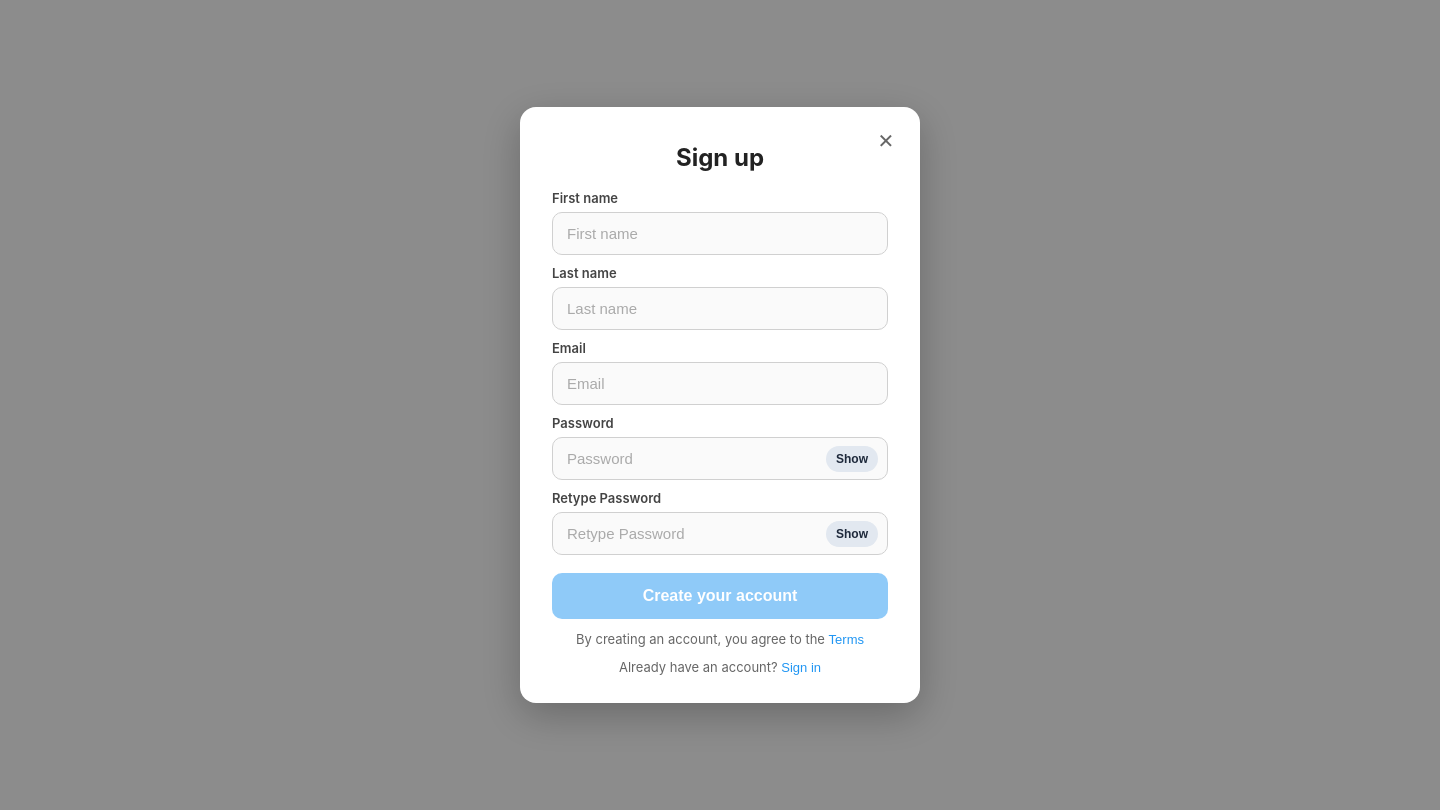
Scenario: SignUp Component › displays error when email is already registered
Type "John" into the field labelled "First name" at (720,234), box [552, 212, 888, 255]
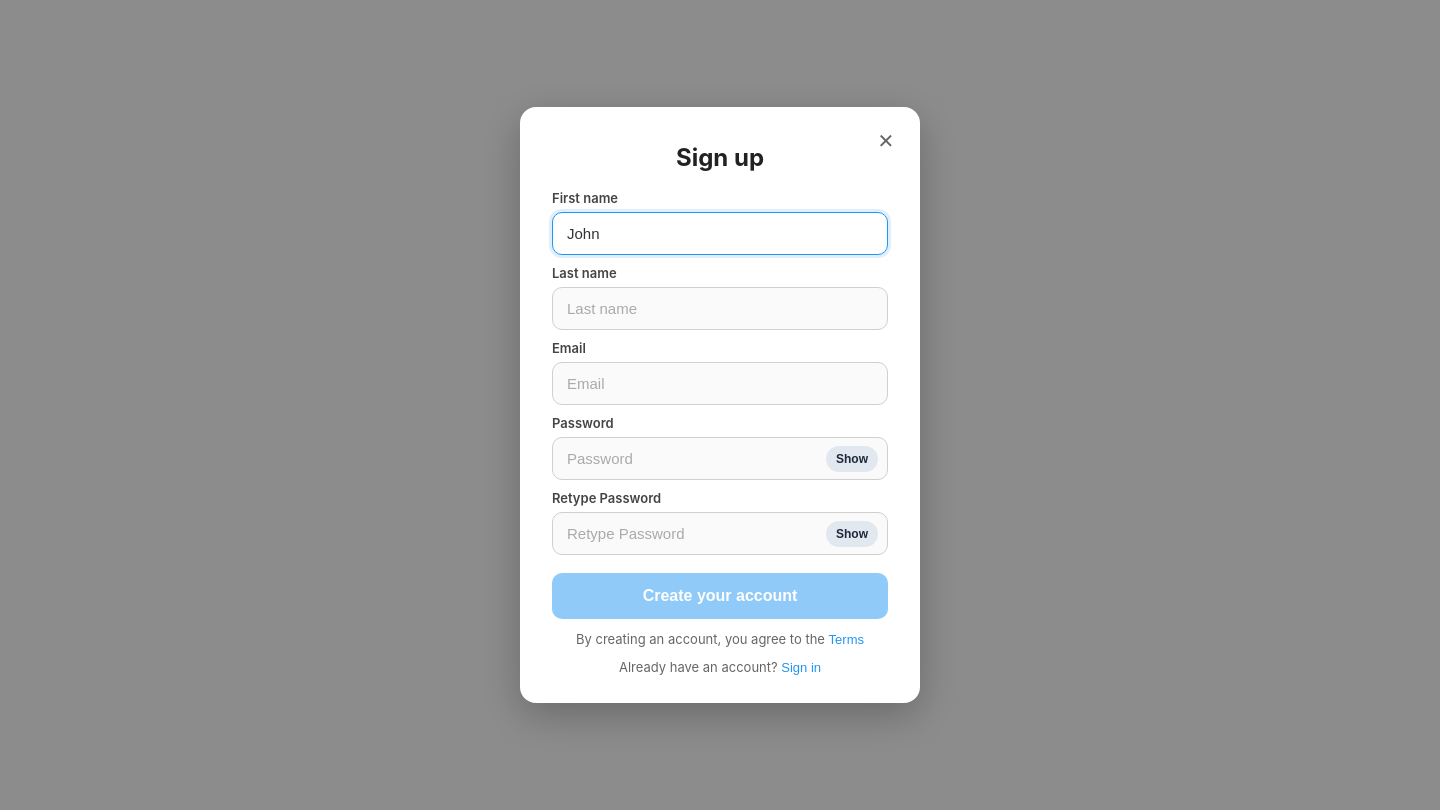
Type "Doe" into the field labelled "Last name" at (720,308), box [552, 287, 888, 330]
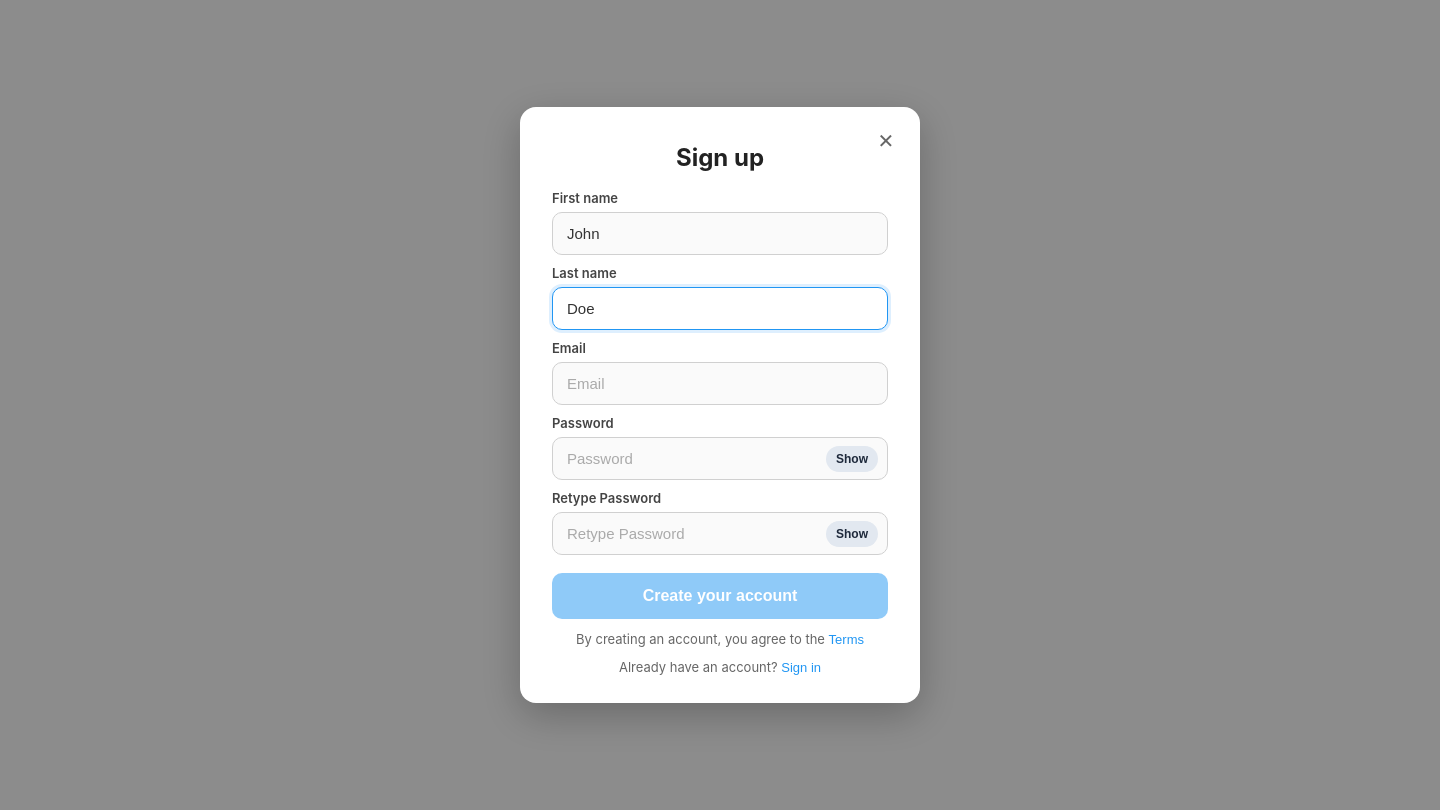
Type "existing@example.com" into the field labelled "Email" at (720,384), box [552, 362, 888, 405]
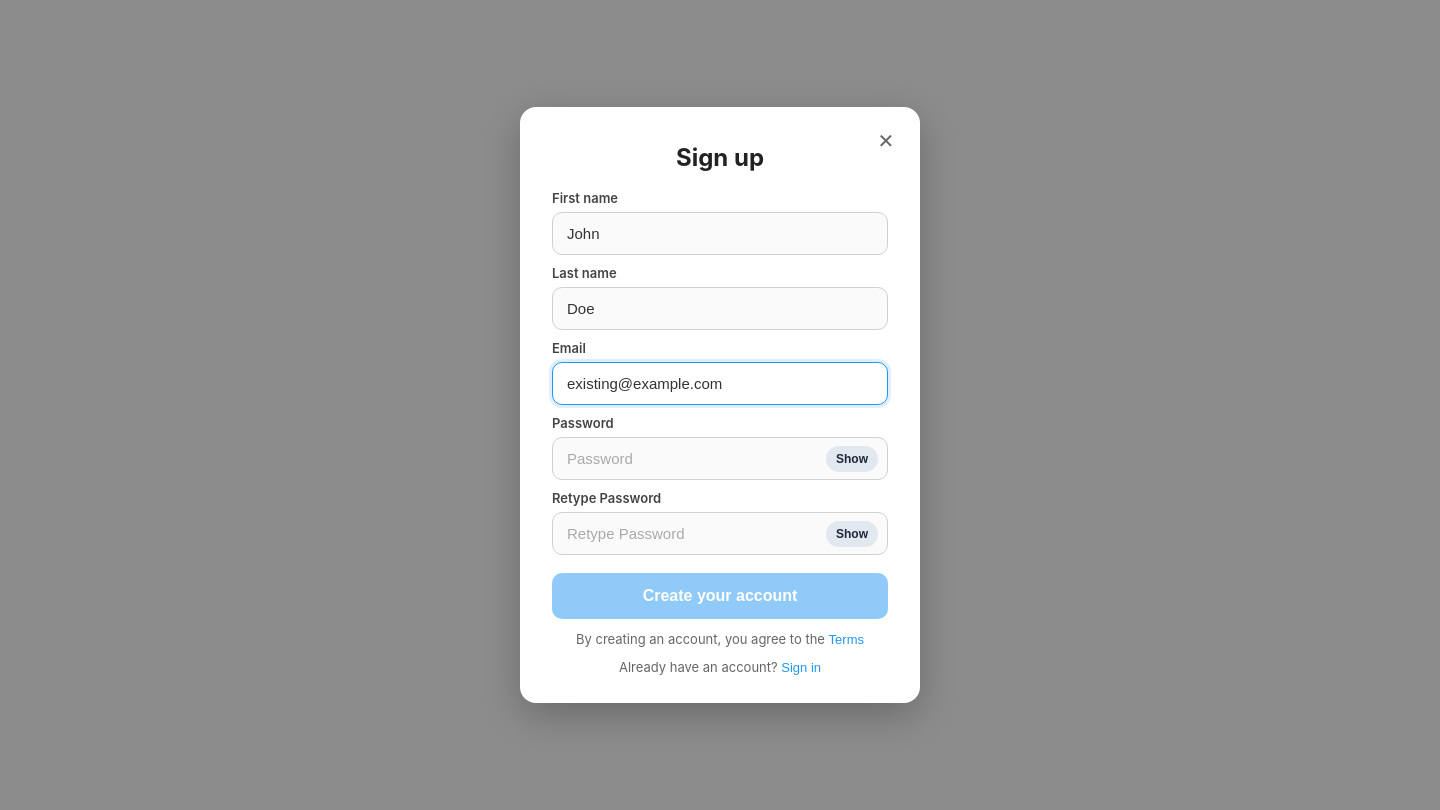
Type "StrongPass1!" into the password field labelled "Password" at (720,458), box [552, 437, 888, 480]
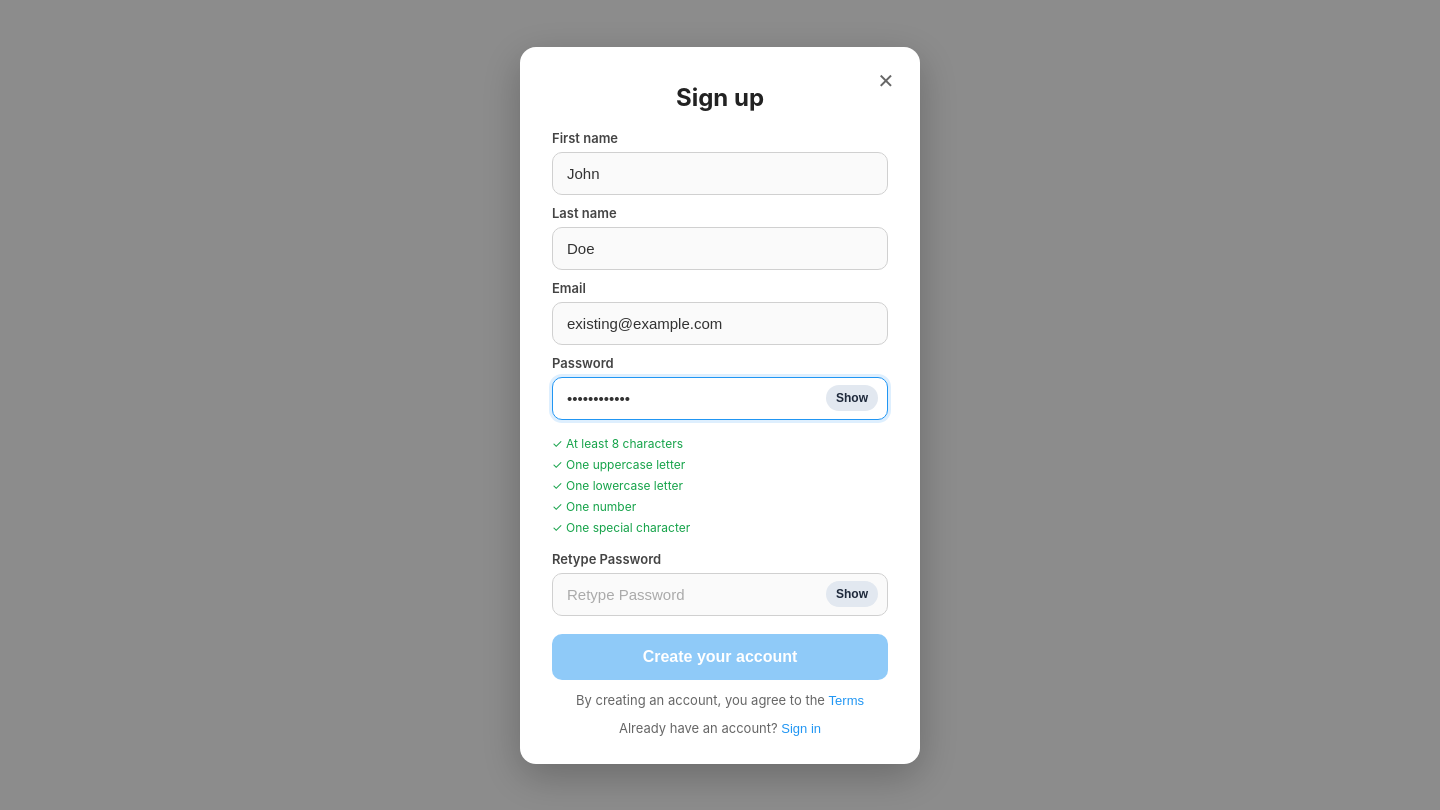
Type "StrongPass1!" into the password field labelled "Retype Password" at (720,594), box [552, 572, 888, 616]
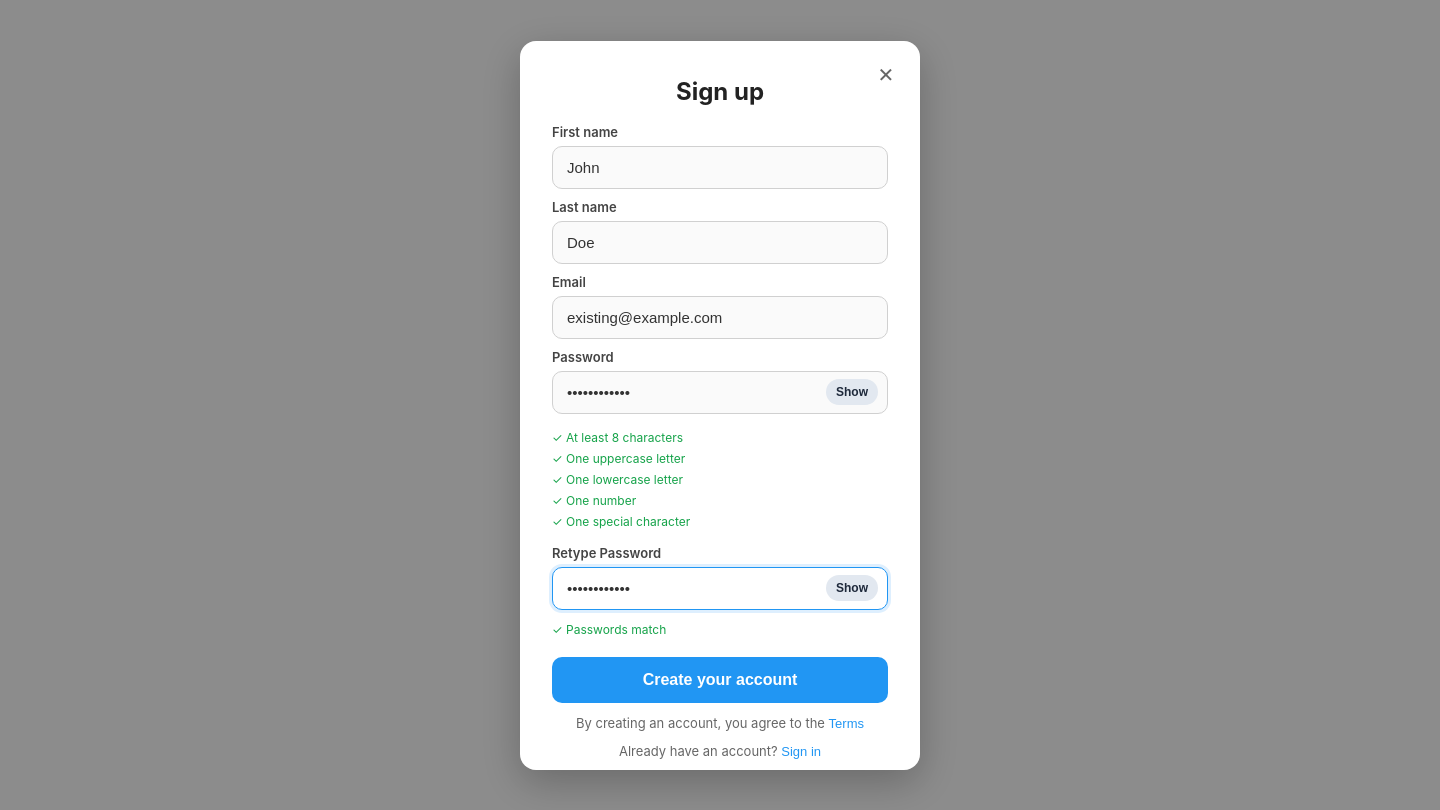
Click the button "Create your account" at (720,680), box [552, 656, 888, 702]
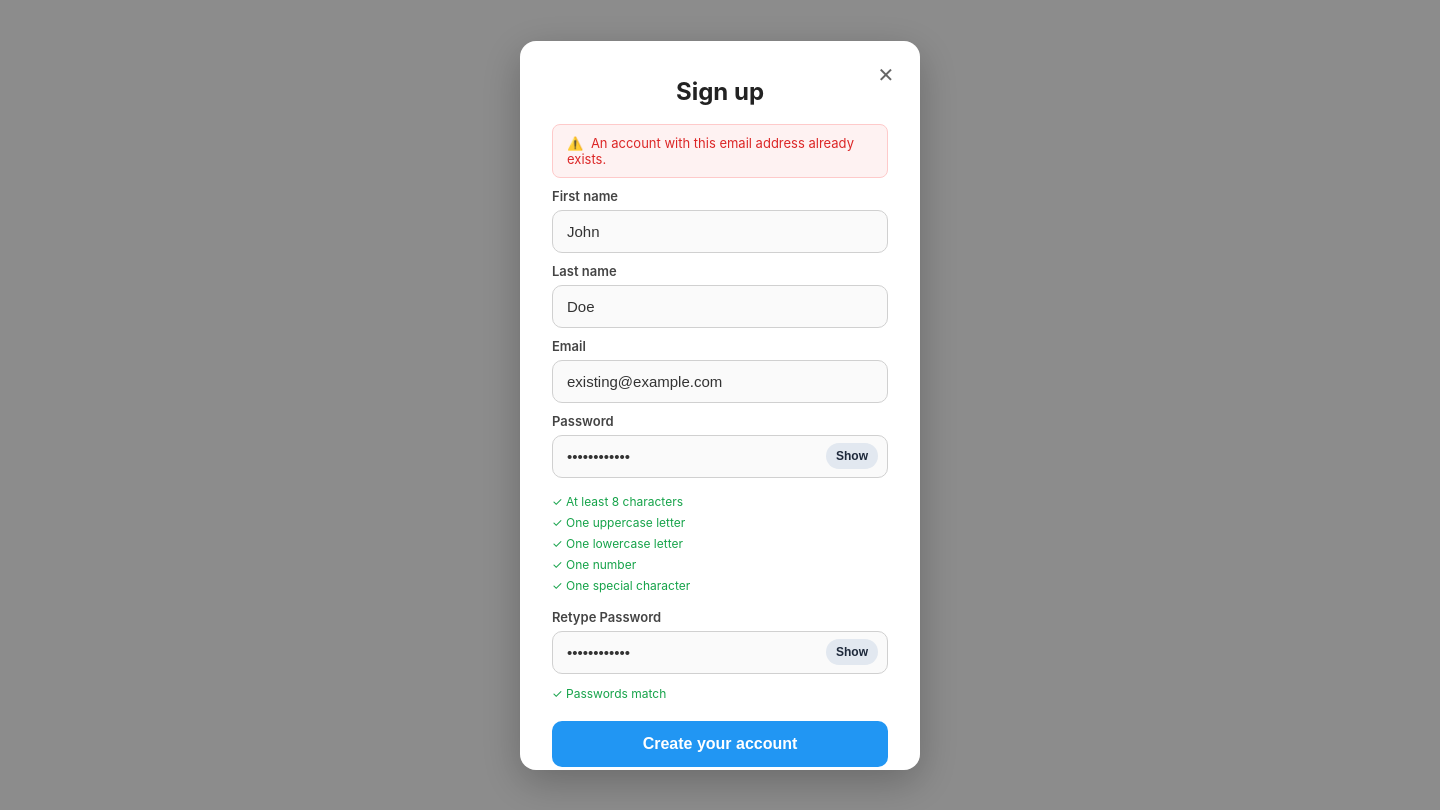
Check: the text "⚠️ An account with this email address already exists." is shown, box [552, 124, 888, 178]
